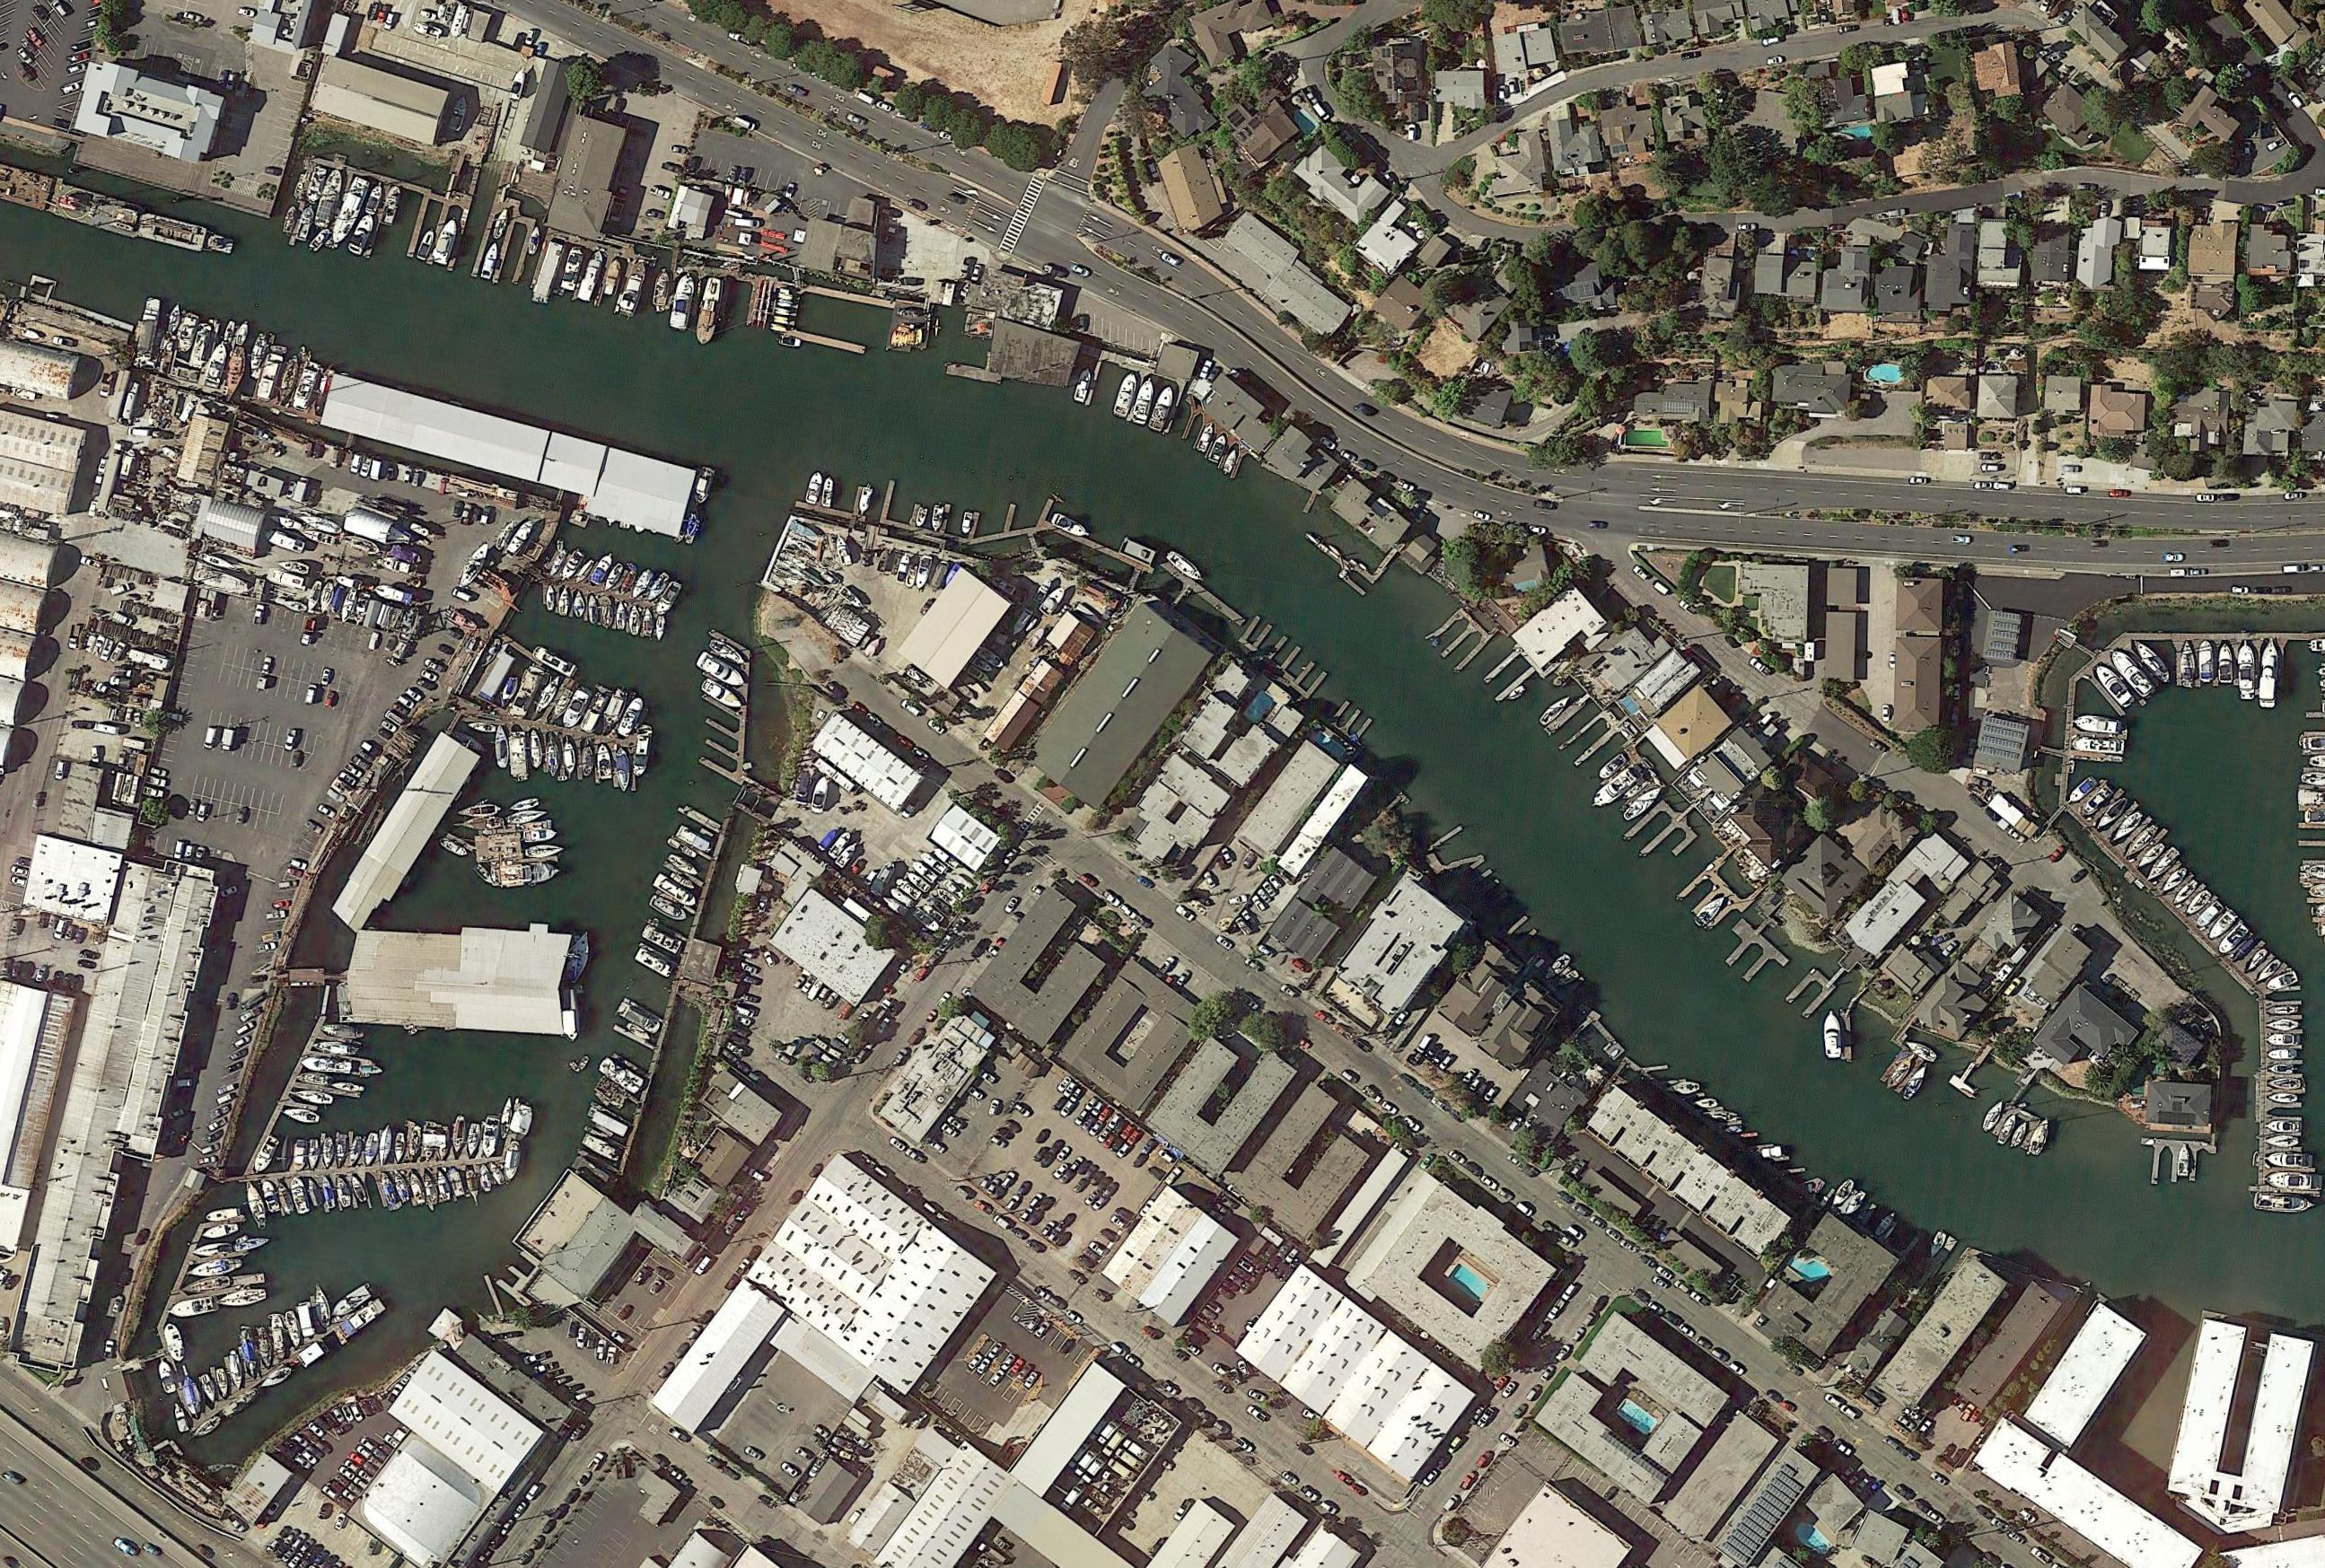harbor: (574, 807, 730, 1174), (2066, 775, 2301, 1001), (289, 128, 479, 287), (185, 1267, 374, 1421), (275, 1120, 525, 1216), (488, 665, 656, 793), (157, 1199, 268, 1346), (532, 546, 682, 642), (1559, 704, 1679, 823), (2250, 999, 2320, 1199), (1232, 614, 1331, 709), (1144, 558, 1247, 648), (1298, 509, 1394, 599), (700, 630, 752, 784), (1713, 906, 1800, 996), (1678, 849, 1765, 938), (1623, 789, 1711, 877), (472, 187, 542, 292), (2175, 632, 2290, 688), (1424, 597, 1501, 676), (1867, 1024, 1938, 1095), (794, 474, 875, 532), (1784, 952, 1851, 1020), (1993, 1085, 2050, 1151), (1949, 1050, 1996, 1099), (1326, 700, 1373, 746), (1545, 693, 1594, 737), (1494, 667, 1538, 705), (1484, 649, 1520, 684), (1839, 1008, 1854, 1062)
ship: (44, 177, 143, 238), (135, 210, 210, 254), (327, 175, 371, 247), (2106, 646, 2159, 700), (691, 277, 726, 350), (504, 665, 546, 723), (131, 294, 163, 369), (1588, 767, 1637, 814), (2129, 635, 2175, 686), (560, 928, 598, 987), (695, 651, 749, 693), (338, 1297, 387, 1342), (2092, 661, 2136, 710), (597, 1055, 647, 1097), (455, 539, 493, 591), (315, 168, 346, 229), (698, 676, 747, 714), (668, 269, 698, 332), (597, 686, 632, 738), (618, 261, 649, 318), (1165, 548, 1209, 588), (586, 1101, 632, 1139), (653, 873, 700, 910), (492, 863, 562, 887), (1622, 784, 1664, 824), (220, 345, 248, 404), (290, 359, 322, 411), (616, 1001, 663, 1036), (546, 679, 581, 726), (560, 684, 595, 731), (530, 644, 577, 679), (2143, 845, 2182, 887), (576, 250, 605, 304), (705, 635, 749, 672), (327, 1285, 371, 1321), (1111, 371, 1142, 422), (579, 1131, 625, 1166), (2122, 823, 2162, 861), (1690, 893, 1730, 931), (1146, 385, 1177, 434), (502, 516, 537, 560), (577, 689, 611, 735), (1130, 376, 1160, 427), (430, 217, 460, 268), (275, 353, 303, 406), (532, 672, 565, 716), (2253, 1192, 2316, 1215), (178, 1365, 205, 1419), (203, 340, 231, 390), (2096, 795, 2133, 833), (1898, 1062, 1933, 1102), (647, 893, 689, 926), (633, 947, 675, 980), (616, 695, 647, 738), (254, 355, 283, 401), (348, 212, 378, 257), (2078, 784, 2115, 821), (1536, 693, 1574, 728), (1884, 1053, 1919, 1092), (556, 991, 583, 1041), (1050, 511, 1092, 542), (640, 924, 682, 955), (250, 1134, 282, 1176), (240, 1178, 268, 1225), (2259, 639, 2278, 707), (185, 1256, 243, 1279), (558, 245, 584, 294), (2110, 810, 2145, 847), (632, 723, 654, 779), (2073, 712, 2124, 737), (217, 1286, 268, 1311), (2215, 922, 2250, 957), (675, 824, 714, 856), (450, 728, 490, 758), (175, 310, 201, 355), (299, 511, 345, 537), (2026, 1117, 2054, 1158), (499, 1139, 523, 1187), (869, 859, 899, 898), (653, 579, 682, 618), (2073, 735, 2127, 756), (2266, 1171, 2323, 1190), (2206, 910, 2239, 943), (1037, 583, 1069, 618), (1979, 1097, 2007, 1136), (238, 1328, 261, 1376), (1595, 751, 1629, 782), (299, 1055, 353, 1075), (1903, 1036, 1938, 1066), (247, 331, 269, 376), (170, 1297, 215, 1320), (289, 1174, 313, 1216), (665, 852, 702, 880), (163, 1323, 187, 1365), (182, 1274, 231, 1295), (691, 465, 716, 508), (373, 581, 415, 606), (509, 733, 530, 782), (2194, 900, 2225, 931), (2066, 777, 2099, 807), (915, 847, 948, 877), (1828, 1176, 1858, 1209), (191, 1412, 224, 1442), (341, 532, 381, 556), (443, 606, 478, 633), (259, 1363, 294, 1391), (628, 567, 656, 602), (492, 518, 520, 553), (2239, 640, 2255, 702), (311, 1283, 332, 1328), (2136, 842, 2168, 872), (2161, 865, 2190, 896), (2171, 878, 2201, 910), (2183, 887, 2213, 919), (836, 583, 868, 612), (290, 1087, 334, 1108), (560, 548, 586, 583), (590, 551, 616, 586), (644, 571, 670, 606), (374, 553, 415, 576), (380, 186, 402, 226), (156, 1356, 178, 1396), (311, 1038, 359, 1057), (1543, 952, 1573, 982), (226, 1349, 247, 1391), (320, 1022, 366, 1041), (602, 259, 625, 298), (304, 166, 327, 205), (294, 205, 317, 243), (792, 770, 815, 808), (681, 508, 703, 546), (446, 96, 471, 131), (509, 1101, 534, 1136), (810, 775, 831, 816), (282, 1106, 322, 1127), (481, 1115, 500, 1158), (506, 807, 549, 826), (1072, 367, 1095, 404), (1996, 1111, 2019, 1148), (259, 1178, 282, 1215), (388, 544, 425, 567), (296, 1302, 318, 1339), (2253, 957, 2283, 985), (911, 906, 941, 935), (827, 829, 854, 861), (458, 814, 506, 831), (1823, 1011, 1840, 1059), (437, 835, 471, 859), (497, 676, 521, 709), (2266, 970, 2301, 992), (499, 1095, 516, 1141), (415, 228, 437, 263), (364, 182, 387, 217), (614, 747, 632, 793), (834, 840, 862, 868), (910, 857, 938, 886), (976, 646, 1006, 672), (1842, 1188, 1868, 1218), (1074, 602, 1104, 628), (481, 242, 500, 282), (507, 68, 528, 105), (299, 527, 336, 548), (602, 562, 626, 593), (338, 588, 359, 625), (803, 469, 824, 506), (987, 574, 1018, 599), (2269, 1151, 2313, 1169), (409, 19, 443, 42), (1195, 422, 1218, 455), (913, 555, 932, 593), (464, 1167, 483, 1206), (2245, 947, 2271, 975), (882, 893, 910, 919), (894, 875, 922, 901), (904, 868, 932, 894), (392, 1169, 413, 1204), (306, 226, 332, 254), (275, 1181, 296, 1216), (257, 1327, 275, 1369), (834, 534, 855, 569), (960, 670, 987, 698), (920, 900, 948, 926), (206, 231, 236, 256), (1874, 1209, 1898, 1239), (1009, 607, 1034, 637), (2180, 640, 2196, 686), (493, 725, 509, 770), (380, 1171, 399, 1207), (201, 1222, 238, 1241), (192, 1241, 233, 1258), (1207, 432, 1228, 465), (198, 1372, 219, 1405), (269, 513, 303, 534), (378, 1124, 394, 1167), (544, 733, 560, 777), (887, 886, 915, 910), (932, 847, 960, 872), (546, 550, 570, 578), (861, 633, 885, 661), (1023, 625, 1048, 653), (668, 870, 698, 893), (408, 1171, 427, 1206), (434, 1167, 453, 1202), (654, 269, 672, 308), (164, 301, 184, 336), (1665, 1078, 1700, 1097), (201, 553, 236, 572), (233, 1236, 271, 1253), (276, 558, 311, 578), (458, 803, 500, 819), (817, 828, 841, 854), (285, 1311, 303, 1347), (952, 677, 978, 702), (334, 1176, 353, 1209), (464, 1124, 483, 1157), (492, 207, 511, 240), (304, 579, 324, 612), (317, 581, 336, 614), (562, 737, 577, 777), (1032, 578, 1053, 607), (362, 1132, 380, 1167), (2218, 644, 2234, 682), (451, 1115, 467, 1153), (280, 205, 299, 236), (527, 844, 565, 859), (579, 738, 595, 777), (1928, 1230, 1947, 1262), (939, 878, 966, 901), (2199, 640, 2213, 682), (1219, 448, 1240, 476), (625, 1022, 653, 1043), (618, 569, 639, 597), (894, 553, 911, 586), (320, 1176, 338, 1209), (423, 1173, 441, 1206), (173, 1402, 191, 1435), (857, 485, 875, 518), (205, 1207, 241, 1223), (422, 1125, 437, 1162), (350, 1174, 369, 1204), (2010, 1120, 2029, 1150), (472, 861, 495, 886), (929, 894, 953, 917), (436, 1127, 451, 1162), (348, 1136, 366, 1167), (486, 1160, 507, 1187), (306, 1176, 324, 1207), (597, 744, 612, 779), (574, 558, 595, 584), (353, 591, 369, 627), (873, 548, 892, 576), (296, 1071, 329, 1087), (334, 1134, 350, 1167), (525, 828, 558, 844), (820, 476, 836, 509), (448, 1167, 465, 1197), (334, 574, 364, 591), (971, 655, 995, 676), (2266, 1120, 2302, 1134), (966, 665, 992, 684), (292, 1139, 308, 1171), (530, 728, 542, 768), (936, 886, 959, 906), (1557, 970, 1581, 989), (527, 226, 542, 256), (509, 796, 539, 812), (215, 1369, 231, 1398), (234, 320, 252, 347), (306, 1139, 320, 1171), (392, 1132, 406, 1164), (282, 599, 310, 614), (408, 1125, 422, 1157), (931, 504, 945, 534), (558, 586, 572, 616), (2267, 1034, 2301, 1046), (2267, 1078, 2301, 1090), (2178, 1143, 2190, 1176), (628, 604, 640, 637), (1506, 684, 1527, 704), (322, 1137, 334, 1169), (2267, 1048, 2299, 1060), (2267, 1092, 2299, 1104), (777, 336, 803, 350), (331, 1082, 360, 1094), (479, 1162, 492, 1192), (467, 721, 497, 733), (642, 607, 654, 637), (588, 595, 600, 625), (19, 327, 42, 343), (220, 318, 236, 341), (2266, 1136, 2299, 1146), (960, 511, 974, 535), (654, 614, 667, 642), (913, 508, 929, 529), (2267, 1020, 2299, 1031), (574, 591, 586, 618), (266, 341, 289, 355), (443, 4, 457, 24), (2267, 1006, 2299, 1015), (546, 584, 556, 611), (292, 180, 306, 200), (2269, 1064, 2294, 1075), (1693, 1097, 1718, 1108), (618, 602, 626, 630), (577, 1055, 590, 1071), (436, 4, 446, 19), (567, 1060, 579, 1073)
